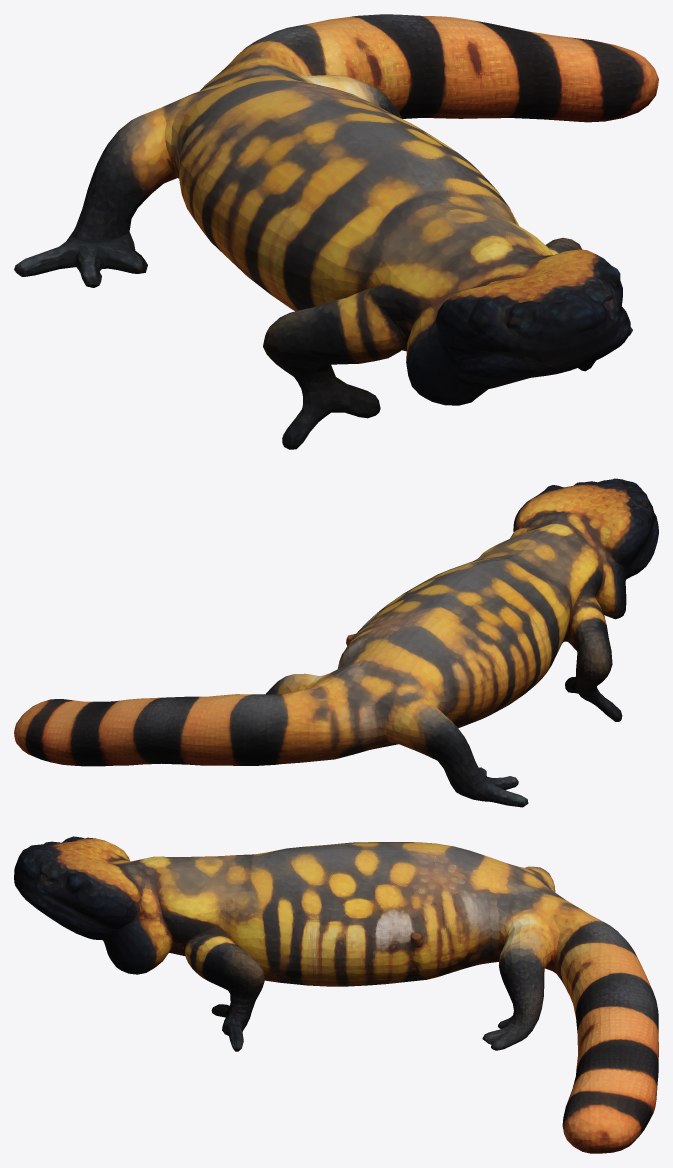
Rendered from gila.glb.
3 renders of one model, top to bottom at view 1: azimuth 30°, elevation 25°; view 2: azimuth 150°, elevation 25°; view 3: azimuth 270°, elevation 25°, orthographic. The views are drawn at different scales.
Visible parts, largest first — view 1: world; view 2: world; view 3: world.
Boxes of the visible parts, <box> form: world: <box>14,14,658,449</box>; world: <box>14,478,658,807</box>; world: <box>14,836,658,1153</box>.
Bounding box in the file's own units: 0.8665 × 0.2722 × 0.9961.
Materials: 1 (1 with a texture image).
